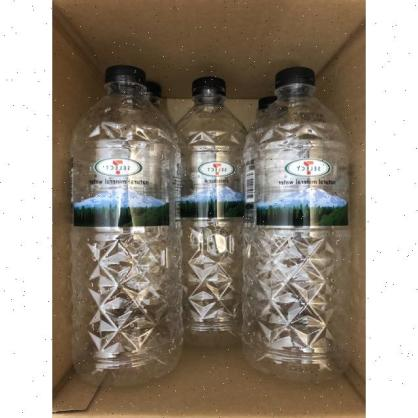bottle: (67, 65, 178, 384), (243, 67, 350, 383), (178, 75, 242, 361)
cap: (274, 68, 316, 93), (105, 67, 146, 89), (190, 77, 225, 100)
label: (244, 142, 348, 228), (72, 144, 174, 228), (180, 144, 241, 220)
